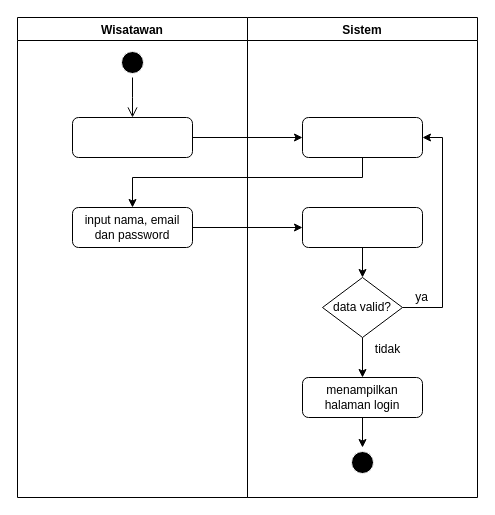
This 495x515 diagram has some shape labels left out. The centre of each missing label's shape, as x and y in pixels:
menampilkan halaman registrasi: (x=362, y=137)
pilih menu register untuk wisatawan: (x=132, y=137)
validasi akun: (x=362, y=227)
